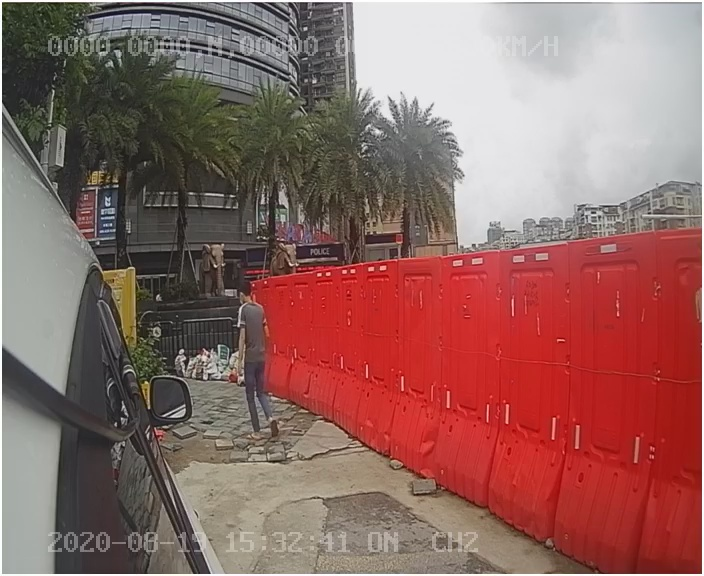person: (222, 282, 294, 437)
